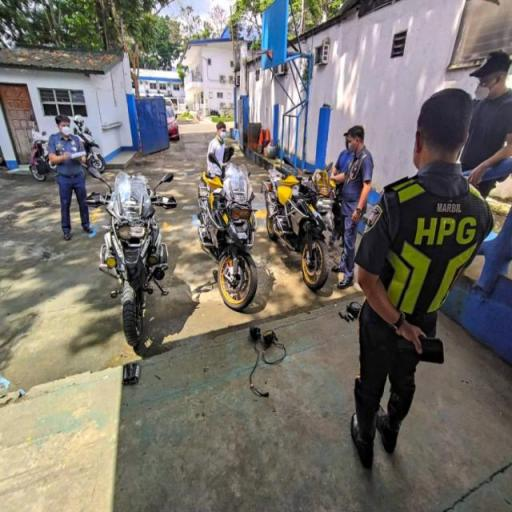Motor: (87, 167, 176, 351), (199, 148, 257, 311), (262, 159, 328, 290), (74, 115, 105, 173), (29, 122, 55, 181)
